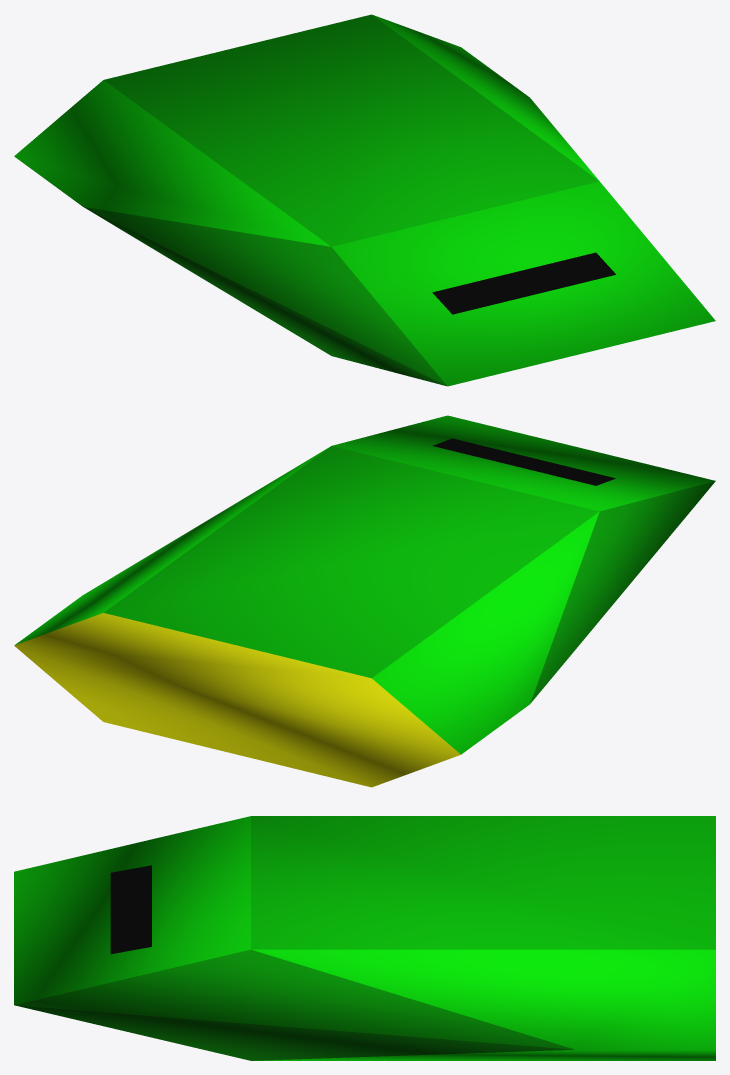
File: adder.gltf
3 views of the same model, one above another, from view 1: azimuth 30°, elevation 25°; view 2: azimuth 150°, elevation 25°; view 3: azimuth 270°, elevation 25° (orthographic).
Visible parts, largest first — view 1: adder; view 2: adder; view 3: adder.
Boxes of the visible parts, x1,y1,x2,y2 form: adder: (14,14,715,386); adder: (14,415,715,787); adder: (14,816,715,1060).
Size of the model in its own units: 0.0101 by 0.00235 by 0.0134.
